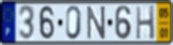0: (65, 5, 83, 41)
3: (18, 4, 36, 42)
6: (114, 4, 133, 42), (38, 4, 56, 42)
H: (135, 5, 156, 42)
N: (86, 5, 107, 41)
